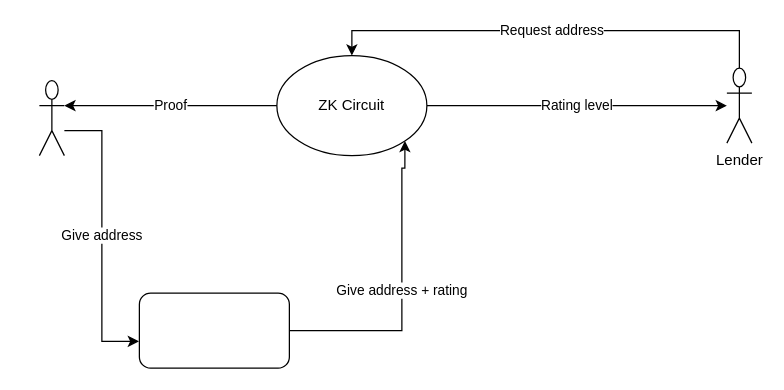
The diagram is 784 pixels wide and 390 high, and some of its shapes have lost their labels. The centre of each missing label's shape, as x and y in pixels:
"Backend" goes at (x=213, y=330).
"Borrower" goes at (x=51, y=117).
